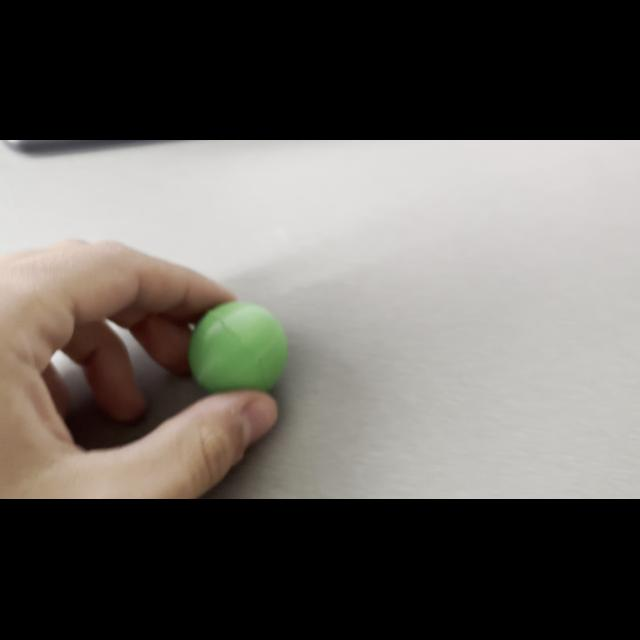objects: (184, 298, 290, 392)
